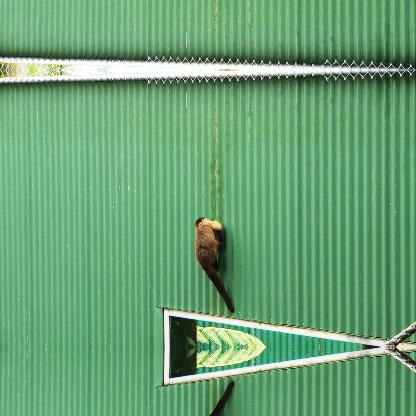Monkey: (194, 216, 234, 310), (194, 381, 235, 415)
